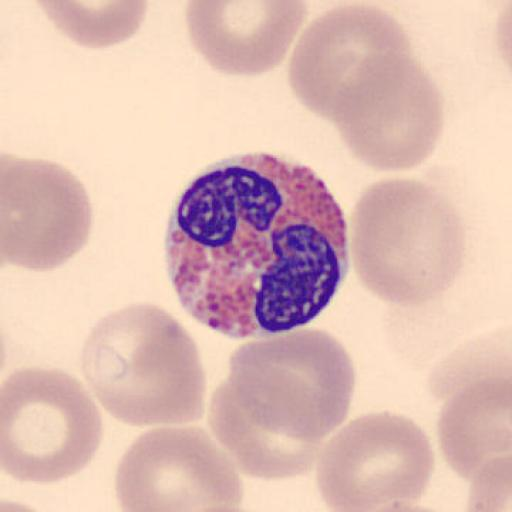RBC: (78, 301, 206, 428), (348, 175, 466, 309), (227, 326, 358, 443), (289, 2, 412, 121), (329, 50, 445, 174), (314, 409, 437, 512), (2, 365, 105, 486), (208, 378, 322, 482), (112, 424, 244, 512), (2, 155, 93, 274), (184, 0, 310, 78), (435, 374, 512, 484), (425, 332, 512, 416), (33, 0, 149, 49), (462, 451, 512, 512), (352, 493, 455, 512), (493, 3, 512, 72), (354, 500, 458, 512), (178, 503, 268, 512), (2, 496, 48, 512)
WBC: (163, 150, 350, 338)
